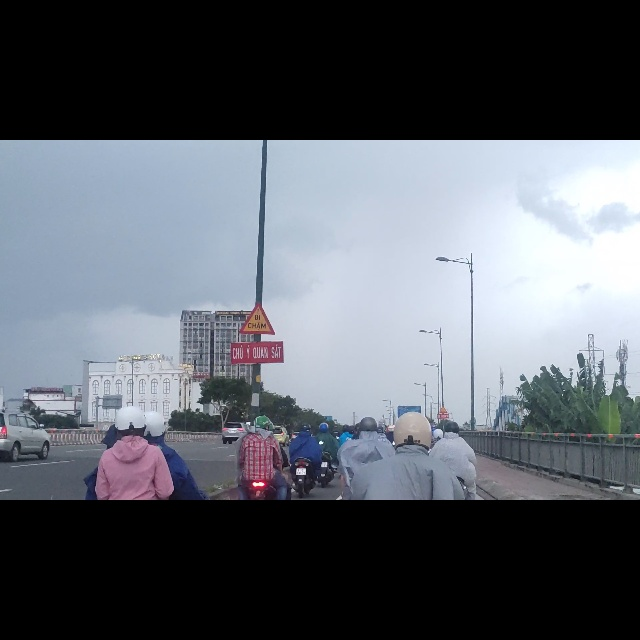bien_cam: (239, 286, 276, 345)
